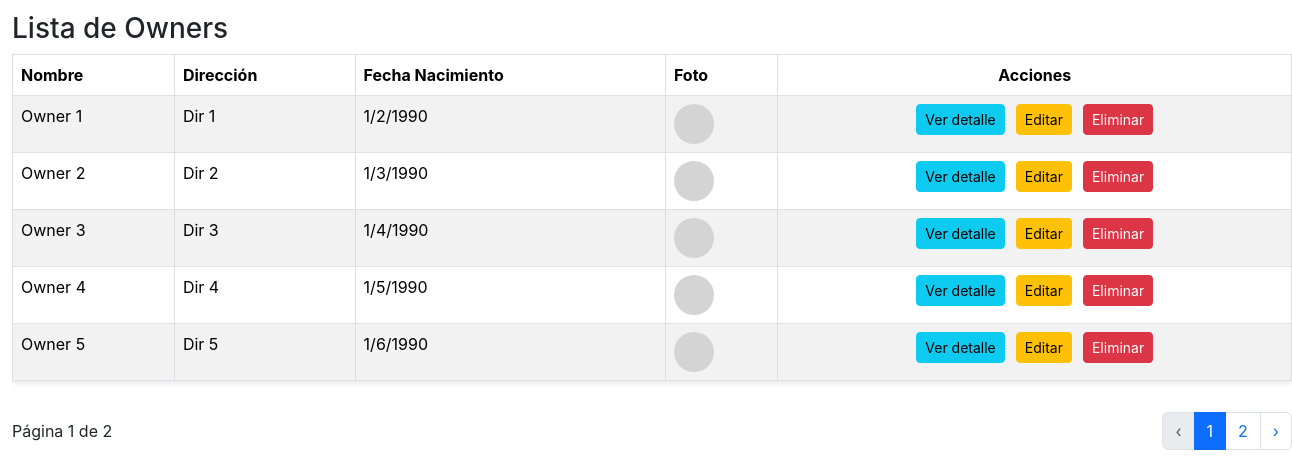
OwnerList › cambia a la página 2 al hacer click en el paginador
The width and height of the screenshot is (1292, 467).
Click the button "2".
click(1243, 431)  # box [1225,412,1261,450]
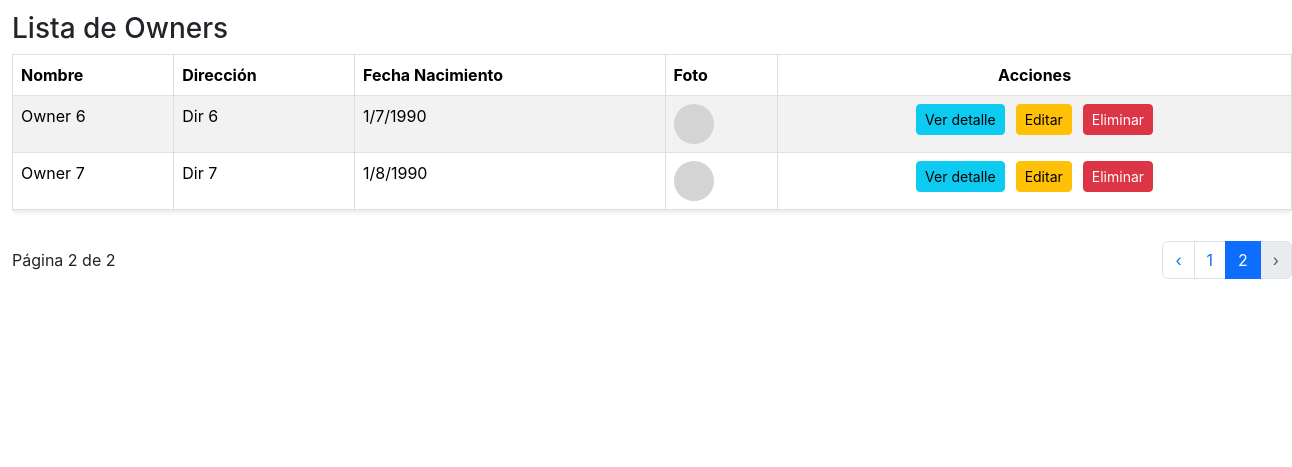
Expected: the text "Página 2 de 2" is shown, [12,248,116,272]
Expected: the text "Owner 6" is shown, [12,95,174,152]
Expected: the text "Owner 7" is shown, [12,152,174,209]
